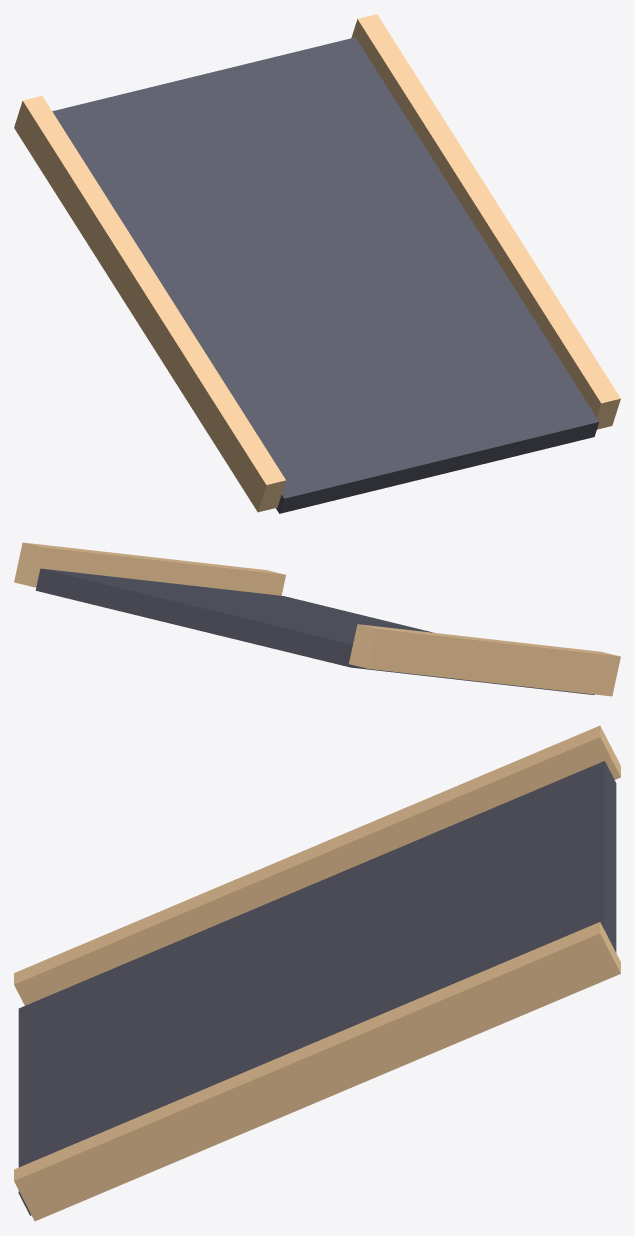
Rendered from ramp1.glb.
The picture shows the model from 3 angles, top to bottom: view 1: azimuth 30°, elevation 25°; view 2: azimuth 150°, elevation 25°; view 3: azimuth 270°, elevation 25°; orthographic projection. The views are drawn at different scales.
Visible parts, largest first — view 1: ramp, ramp_curb_l, ramp_curb_r; view 2: ramp, ramp_curb_l, ramp_curb_r; view 3: ramp, ramp_curb_r, ramp_curb_l.
Part boxes in pixels (box(x1,y1,x2,y2)): ramp: box(52, 37, 599, 513); ramp_curb_l: box(14, 96, 285, 512); ramp_curb_r: box(351, 14, 620, 429); ramp: box(35, 568, 594, 695); ramp_curb_l: box(349, 624, 620, 696); ramp_curb_r: box(14, 542, 285, 595); ramp: box(18, 761, 616, 1215); ramp_curb_r: box(14, 922, 620, 1221); ramp_curb_l: box(14, 725, 620, 1005).
Bounding box in the file's own units: 1.8 × 1.19 × 2.22.
